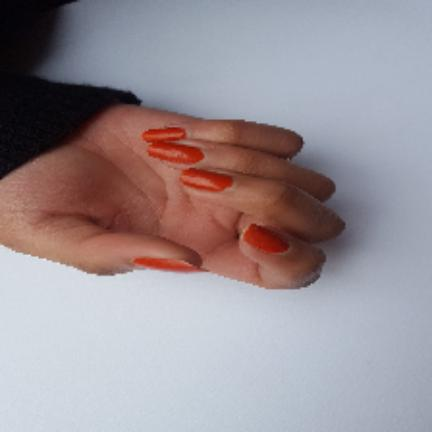Nail: (242, 224, 289, 253), (180, 168, 234, 192), (148, 142, 202, 164), (132, 257, 202, 272), (142, 127, 186, 143)
